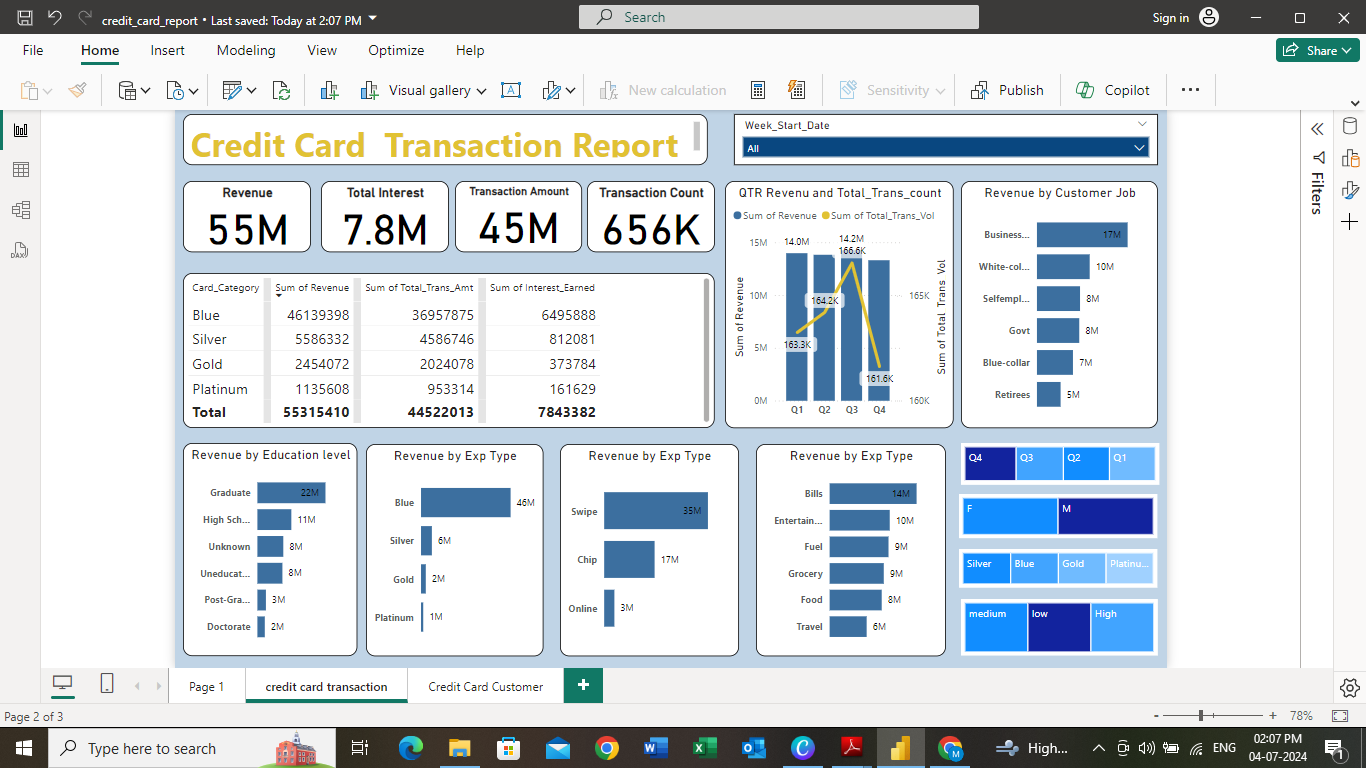

The dashboard page shown, as its layout file describes it:
{"tool":"powerbi","page":{"name":"credit card transaction","canvas":[1280,720],"ordinal":1},"visuals":[{"type":"textbox","box":[10.3,5.2,677.4,65.8],"z":0},{"type":"lineStackedColumnComboChart","title":" QTR Revenu and Total_Trans_count","fields":{"Category":["credit_card.Qtr"],"Y":["Sum(credit_card.Revenue)"],"Y2":["Sum(credit_card.Total_Trans_Vol)"]},"box":[709.7,91.6,295.5,318.7],"z":1000},{"type":"clusteredBarChart","title":"Revenue by Exp Type","fields":{"Category":["credit_card.Exp Type"],"Y":["Sum(credit_card.Revenue)"]},"box":[749.1,430.8,244.9,273.5],"z":2000},{"type":"clusteredBarChart","title":"Revenue by Education level","fields":{"Y":["Sum(credit_card.Revenue)"],"Category":["customer.Education_Level"]},"box":[10.7,429.1,225.3,275.3],"z":3000},{"type":"clusteredBarChart","title":"Revenue by Customer Job","fields":{"Y":["Sum(credit_card.Revenue)"],"Category":["customer.Customer_Job"]},"box":[1014.2,91.6,254.2,318.7],"z":4000},{"type":"clusteredBarChart","title":"Revenue by Exp Type","fields":{"Category":["credit_card.Card_Category"],"Y":["Sum(credit_card.Revenue)"]},"box":[246.7,430.8,228.8,273.5],"z":5000},{"type":"clusteredBarChart","title":"Revenue by Exp Type","fields":{"Y":["Sum(credit_card.Revenue)"],"Category":["credit_card.Use Chip"]},"box":[497,430.8,230.6,273.5],"z":6000},{"type":"tableEx","fields":{"Values":["credit_card.Card_Category","Sum(credit_card.Revenue)","Sum(credit_card.Total_Trans_Amt)","Sum(credit_card.Interest_Earned)"]},"box":[9.8,209.7,686.1,199.9],"z":7000},{"type":"card","title":"Revenue","fields":{"Values":["Sum(credit_card.Revenue)"]},"box":[9.8,92.1,164.7,92.1],"z":8000},{"type":"card","title":"Total Interest","fields":{"Values":["Sum(credit_card.Interest_Earned)"]},"box":[188.2,92.1,164.7,92.1],"z":9000},{"type":"card","title":"Transaction Amount","fields":{"Values":["Sum(credit_card.Total_Trans_Amt)"]},"box":[361.3,91.6,163.9,91.6],"z":10000},{"type":"card","title":"Transaction Count","fields":{"Values":["Sum(credit_card.Total_Trans_Vol)"]},"box":[531.2,92.1,164.7,92.1],"z":11000},{"type":"slicer","fields":{"Values":["credit_card.Week_Start_Date"]},"box":[721,4.6,546.8,65.7],"z":12000},{"type":"treemap","fields":{"Group":["credit_card.Qtr"],"Values":["Avg(credit_card.Client_Num)"]},"box":[1013.6,429.1,255.6,53.6],"z":13000},{"type":"treemap","fields":{"Group":["customer.Gender"],"Values":["Avg(credit_card.Client_Num)"]},"box":[1011.8,495.2,255.6,57.2],"z":14000},{"type":"treemap","fields":{"Values":["Avg(credit_card.Client_Num)"],"Group":["credit_card.Card_Category"]},"box":[1011.8,566.7,255.6,50.1],"z":15000},{"type":"treemap","fields":{"Values":["Avg(credit_card.Client_Num)"],"Group":["customer.IncomeGroup"]},"box":[1013.6,631.1,253.9,73.3],"z":16000}]}

Visuals, with their boxes on the page's 1280x720 design canvas (x1, y1, x2, y2). These are canvas units, not pixel positions in the 1366x768 screenshot, which may show the page scaled, cropped or inside an application window:
textbox: select_region(10, 5, 688, 71)
" QTR Revenu and Total_Trans_count" lineStackedColumnComboChart: select_region(710, 92, 1005, 410)
"Revenue by Exp Type" clusteredBarChart: select_region(749, 431, 994, 704)
"Revenue by Education level" clusteredBarChart: select_region(11, 429, 236, 704)
"Revenue by Customer Job" clusteredBarChart: select_region(1014, 92, 1268, 410)
"Revenue by Exp Type" clusteredBarChart: select_region(247, 431, 476, 704)
"Revenue by Exp Type" clusteredBarChart: select_region(497, 431, 728, 704)
tableEx - credit_card.Card_Category x Sum(credit_card.Revenue): select_region(10, 210, 696, 410)
"Revenue" card: select_region(10, 92, 174, 184)
"Total Interest" card: select_region(188, 92, 353, 184)
"Transaction Amount" card: select_region(361, 92, 525, 183)
"Transaction Count" card: select_region(531, 92, 696, 184)
slicer - credit_card.Week_Start_Date: select_region(721, 5, 1268, 70)
treemap - credit_card.Qtr x Avg(credit_card.Client_Num): select_region(1014, 429, 1269, 483)
treemap - customer.Gender x Avg(credit_card.Client_Num): select_region(1012, 495, 1267, 552)
treemap - Avg(credit_card.Client_Num) x credit_card.Card_Category: select_region(1012, 567, 1267, 617)
treemap - Avg(credit_card.Client_Num) x customer.IncomeGroup: select_region(1014, 631, 1268, 704)
